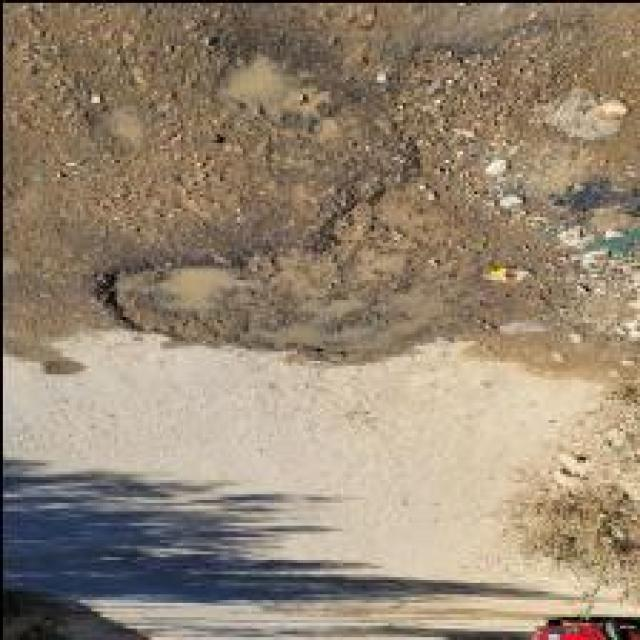BACHE: (116, 181, 559, 358), (386, 11, 639, 291), (223, 49, 339, 135), (91, 107, 143, 154)
